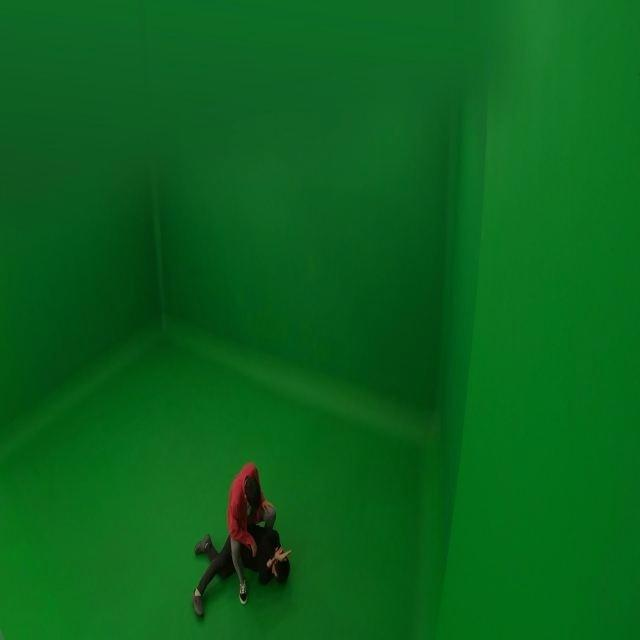fight: (190, 462, 295, 618)
